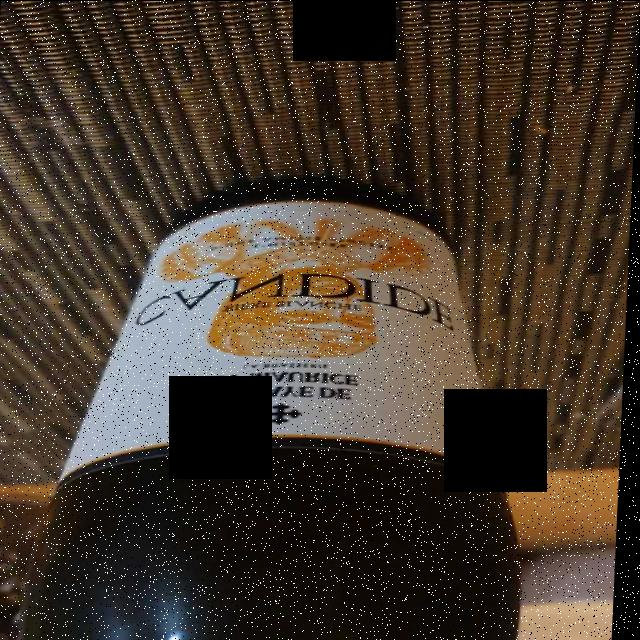beer: (41, 210, 534, 630)
